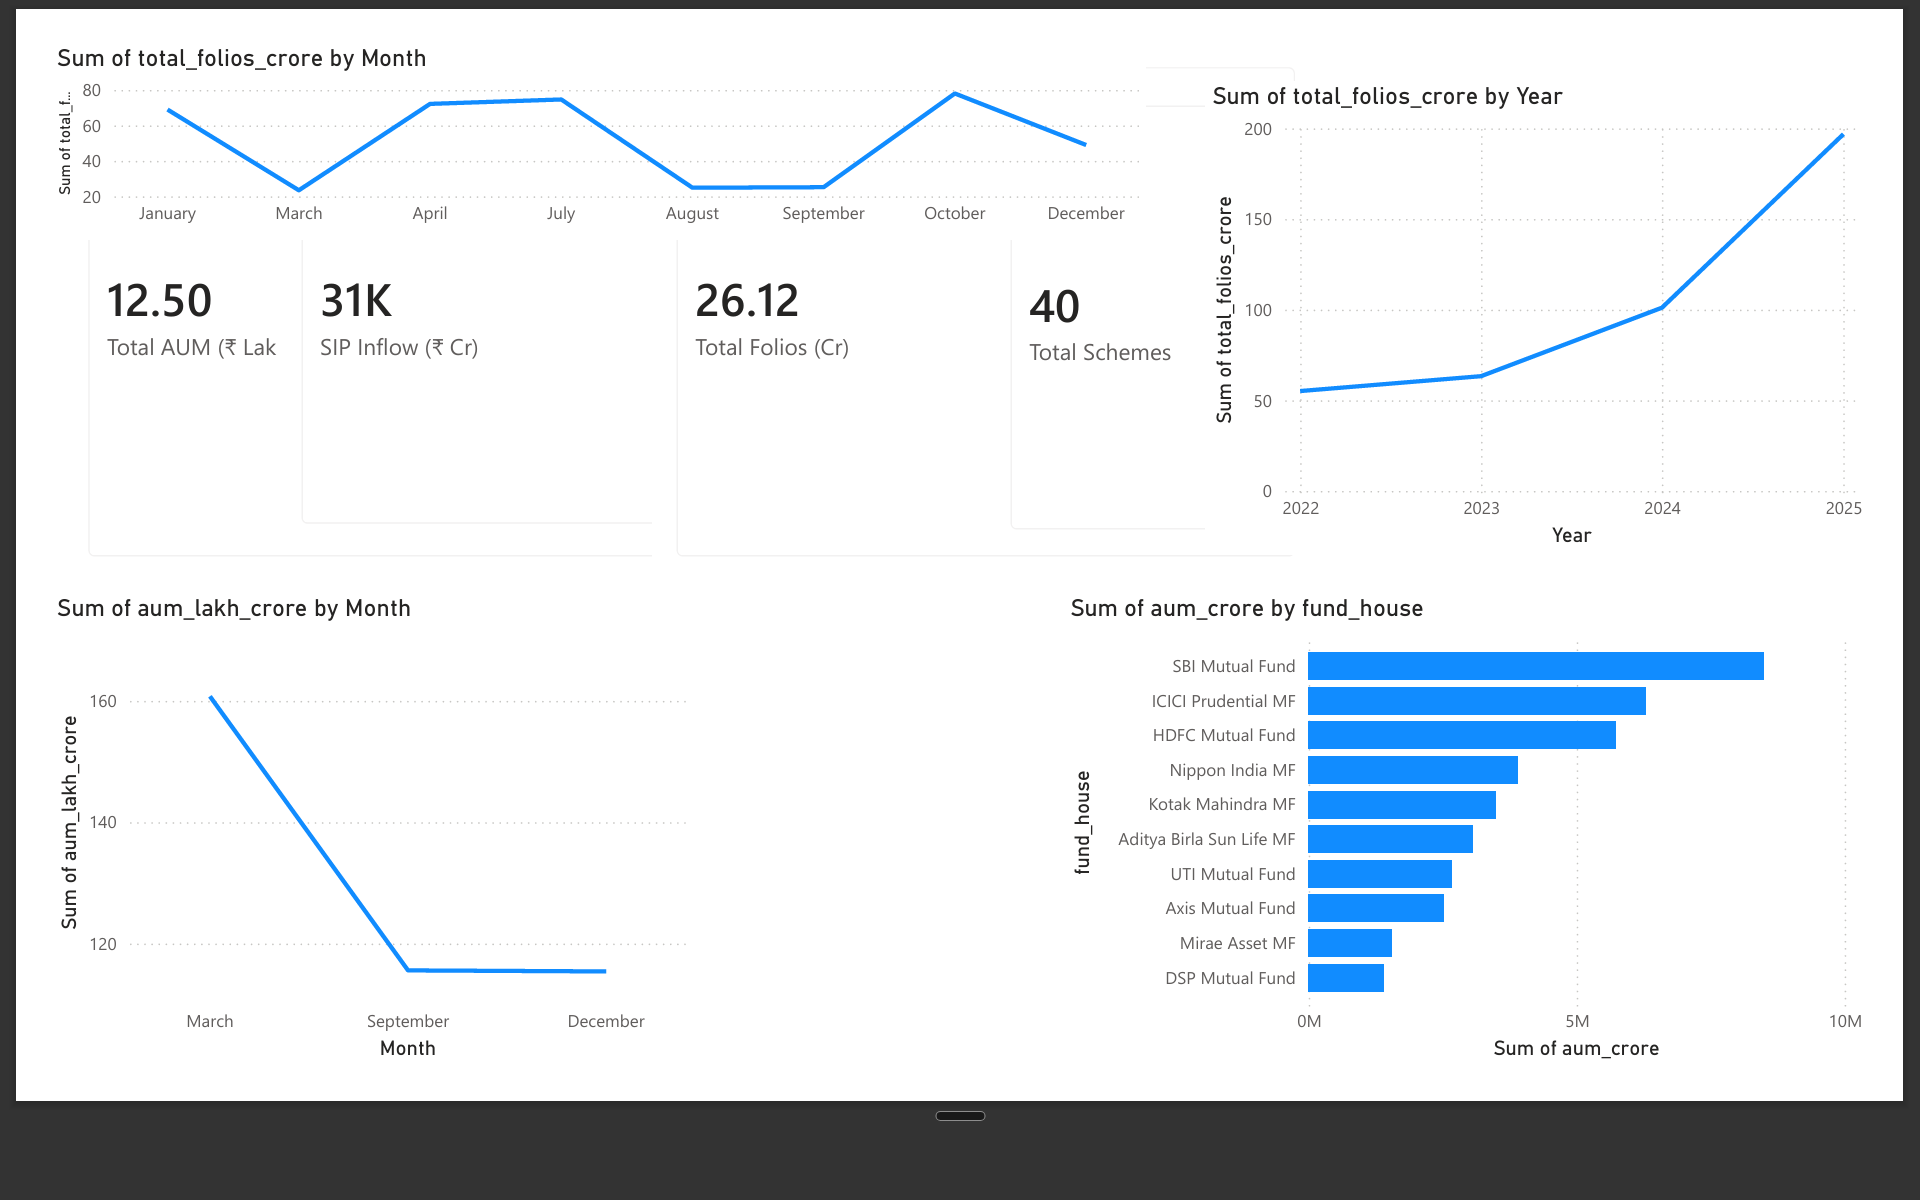

The dashboard page shown, as its layout file describes it:
{"tool":"powerbi","page":{"name":"Industry Overview","canvas":[1280,720],"ordinal":0},"visuals":[{"type":"cardVisual","fields":{"Data":["Max(03_aum_by_fund_house.aum_lakh_crore)"]},"box":[9.6,0,469.3,378.7],"z":0},{"type":"cardVisual","fields":{"Data":["Max(04_monthly_sip_inflows.sip_inflow_crore)"]},"box":[159.9,24.4,468.8,331.9],"z":1000},{"type":"cardVisual","fields":{"Data":["Max(06_industry_folio_count.total_folios_crore)"]},"box":[424,0,469.3,378.7],"z":2000},{"type":"cardVisual","fields":{"Data":["01_fund_master.Total Schemes"]},"box":[658.7,27.4,469.3,332.1],"z":3000},{"type":"lineChart","fields":{"Category":["03_aum_by_fund_house.date.Variation.Date Hierarchy.Month"],"Y":["Sum(03_aum_by_fund_house.aum_lakh_crore)"]},"box":[0,387.2,452.3,332.6],"z":4000},{"type":"clusteredBarChart","fields":{"Category":["03_aum_by_fund_house.fund_house"],"Y":["Sum(03_aum_by_fund_house.aum_crore)"]},"box":[712.8,387.2,567.4,332.6],"z":5000},{"type":"lineChart","fields":{"Category":["06_industry_folio_count.month.Variation.Date Hierarchy.Year","06_industry_folio_count.month.Variation.Date Hierarchy.Quarter","06_industry_folio_count.month.Variation.Date Hierarchy.Month","06_industry_folio_count.month.Variation.Date Hierarchy.Day"],"Y":["Sum(06_industry_folio_count.total_folios_crore)"]},"box":[812.8,26.7,467.4,332.6],"z":6000},{"type":"lineChart","fields":{"Category":["06_industry_folio_count.month.Variation.Date Hierarchy.Month"],"Y":["Sum(06_industry_folio_count.total_folios_crore)"]},"box":[0,0,770.9,138.4],"z":7000}]}

Visuals, with their boxes on the page's 1280x720 design canvas (x1, y1, x2, y2). These are canvas units, not pixel positions in the 1920x1200 screenshot, which may show the page scaled, cropped or inside an application window:
cardVisual - Max(03_aum_by_fund_house.aum_lakh_crore): x1=10 y1=0 x2=479 y2=379
cardVisual - Max(04_monthly_sip_inflows.sip_inflow_crore): x1=160 y1=24 x2=629 y2=356
cardVisual - Max(06_industry_folio_count.total_folios_crore): x1=424 y1=0 x2=893 y2=379
cardVisual - 01_fund_master.Total Schemes: x1=659 y1=27 x2=1128 y2=360
lineChart - 03_aum_by_fund_house.date.Variation.Date Hierarchy.Month x Sum(03_aum_by_fund_house.aum_lakh_crore): x1=0 y1=387 x2=452 y2=720
clusteredBarChart - 03_aum_by_fund_house.fund_house x Sum(03_aum_by_fund_house.aum_crore): x1=713 y1=387 x2=1280 y2=720
lineChart - 06_industry_folio_count.month.Variation.Date Hierarchy.Year x 06_industry_folio_count.month.Variation.Date Hierarchy.Quarter: x1=813 y1=27 x2=1280 y2=359
lineChart - 06_industry_folio_count.month.Variation.Date Hierarchy.Month x Sum(06_industry_folio_count.total_folios_crore): x1=0 y1=0 x2=771 y2=138
